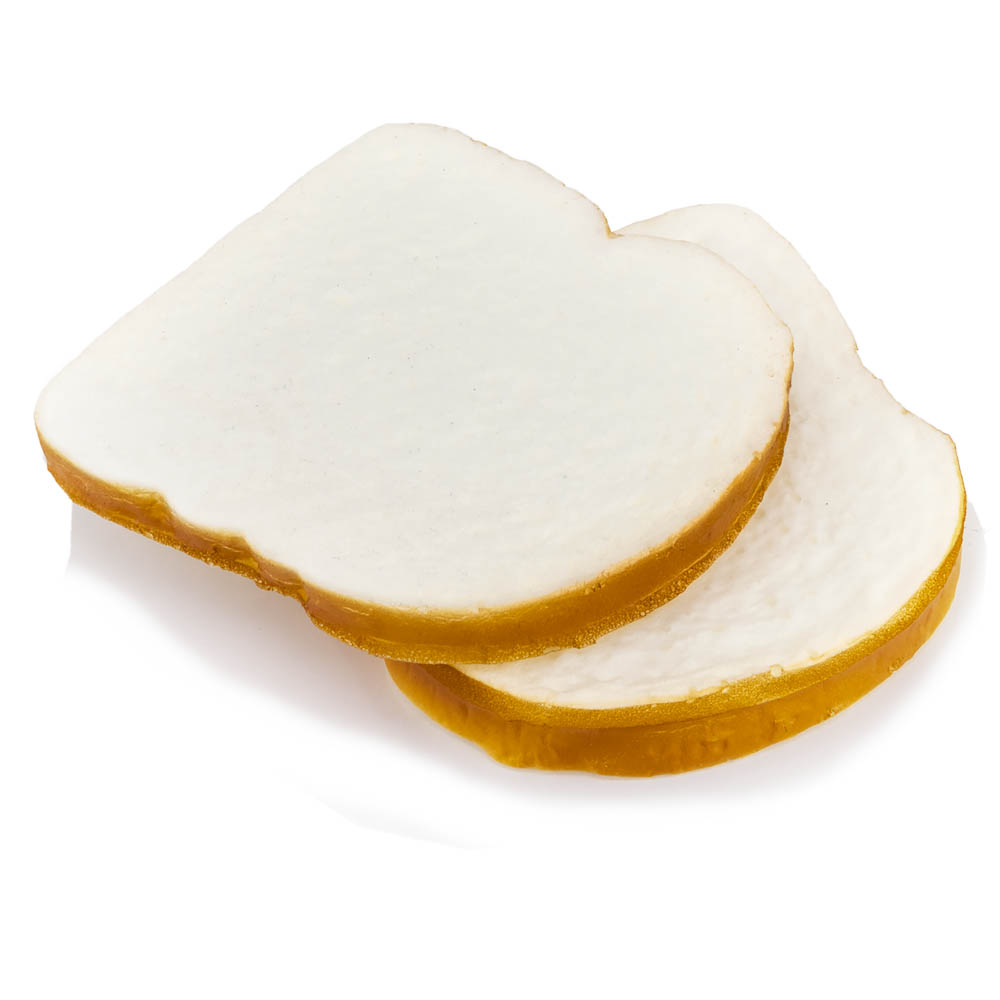slice of bread: (35, 111, 992, 785)
